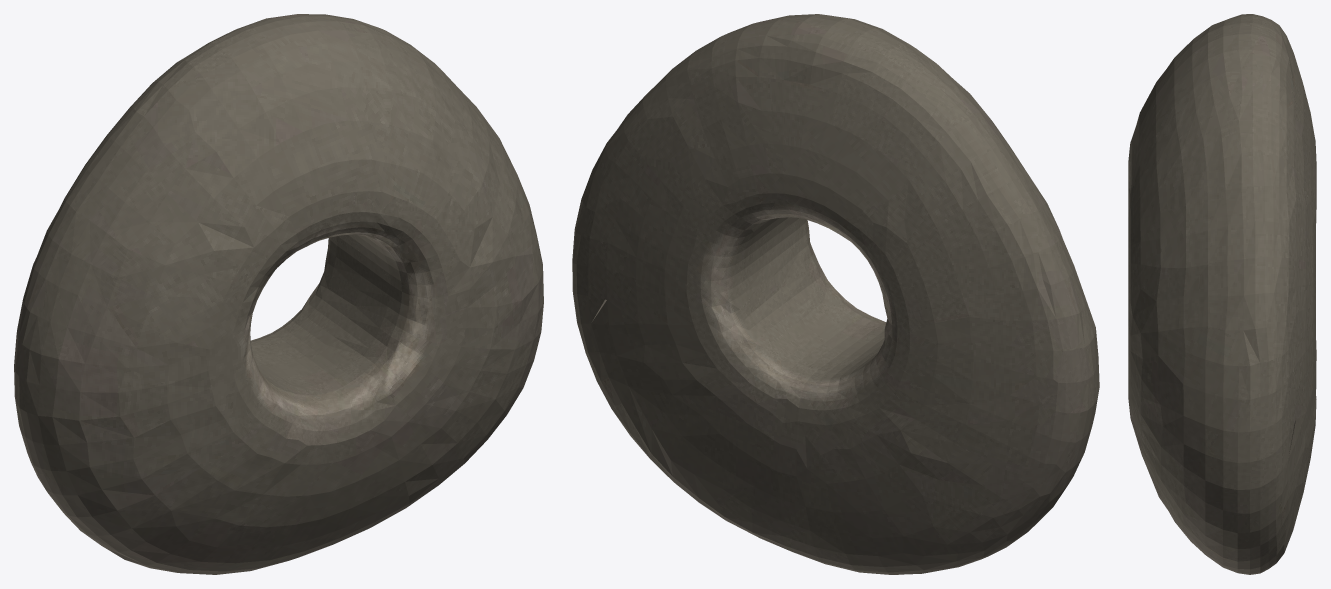
The model's file is ewm_hagstone.glb.
The picture shows the model from 3 angles, left to right: view 1: azimuth 30°, elevation 25°; view 2: azimuth 150°, elevation 25°; view 3: azimuth 270°, elevation 25°; orthographic projection. The views are drawn at different scales.
Visible parts, largest first — view 1: ewm_hagstone; view 2: ewm_hagstone; view 3: ewm_hagstone.
Part boxes in pixels (<box>): ewm_hagstone: <box>14,14,543,574</box>; ewm_hagstone: <box>572,14,1099,574</box>; ewm_hagstone: <box>1128,14,1316,574</box>.
Bounding box in the file's own units: 0.06 × 0.06 × 0.02.
1 material, 1 textured.
